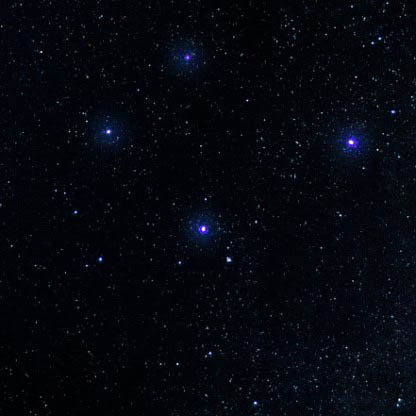Southern Cross: (90, 112, 130, 158), (330, 126, 369, 162), (186, 212, 222, 245), (173, 45, 199, 73)
